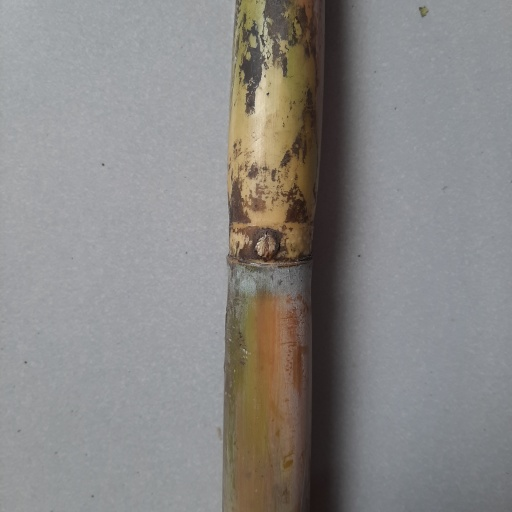Bud: (252, 232, 280, 262)
